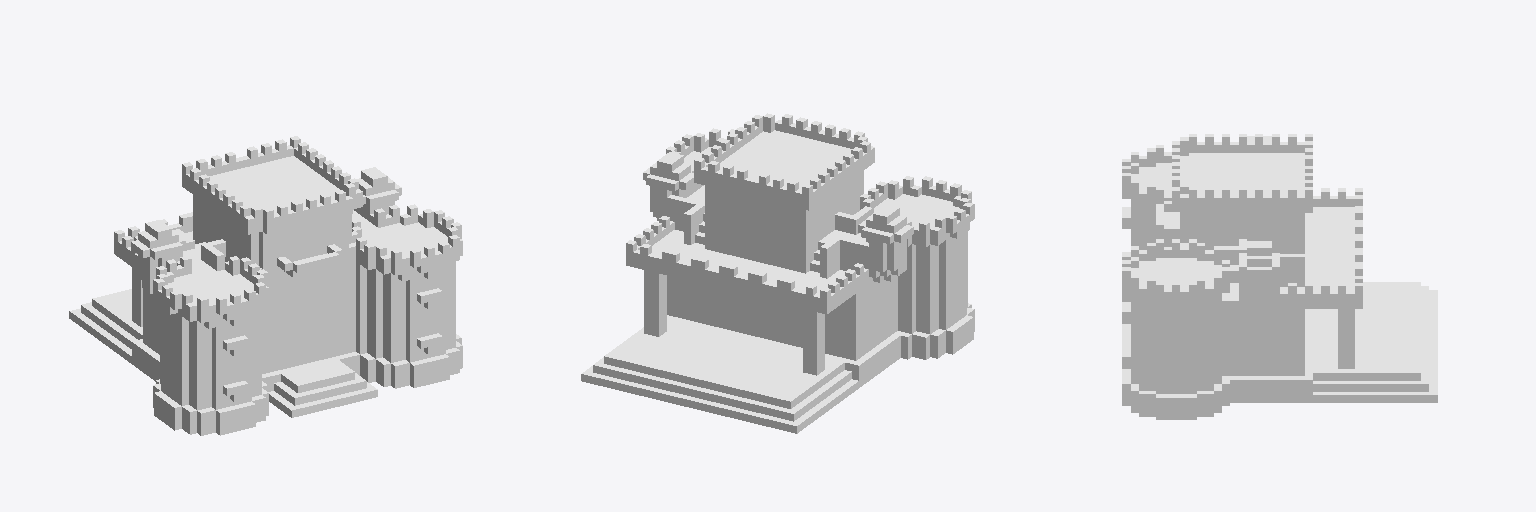
File: first-castle.obj
3 views of the same model, side by side, from view 1: azimuth 30°, elevation 25°; view 2: azimuth 150°, elevation 25°; view 3: azimuth 270°, elevation 25° (orthographic).
Parts seen in each view (by area): view 1: first-castle; view 2: first-castle; view 3: first-castle.
Boxes of the visible parts, <box> form: first-castle: <box>69,136,462,435</box>; first-castle: <box>581,113,974,433</box>; first-castle: <box>1122,134,1437,419</box>.
Size of the model in its own units: 40 by 25 by 38.